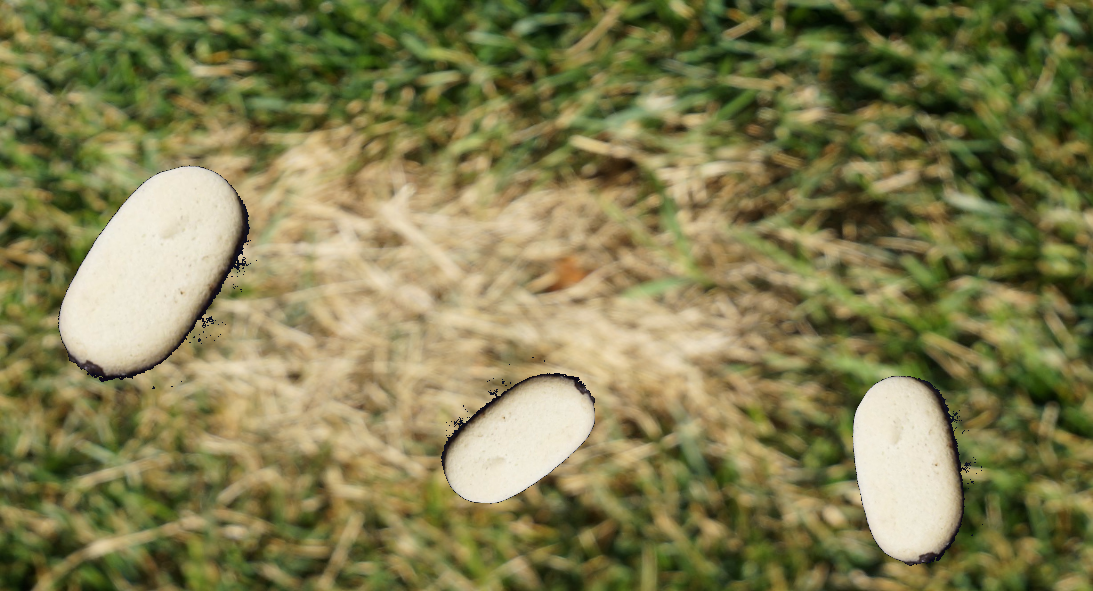test: (26, 152, 288, 412), (798, 354, 1034, 590), (435, 348, 600, 512)
